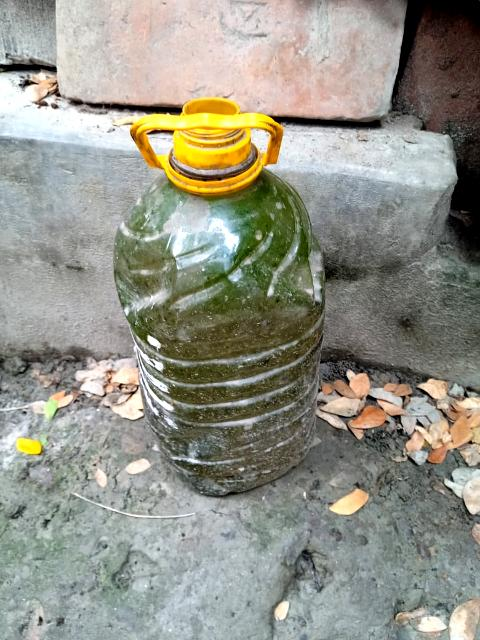bottle: (110, 104, 335, 495)
